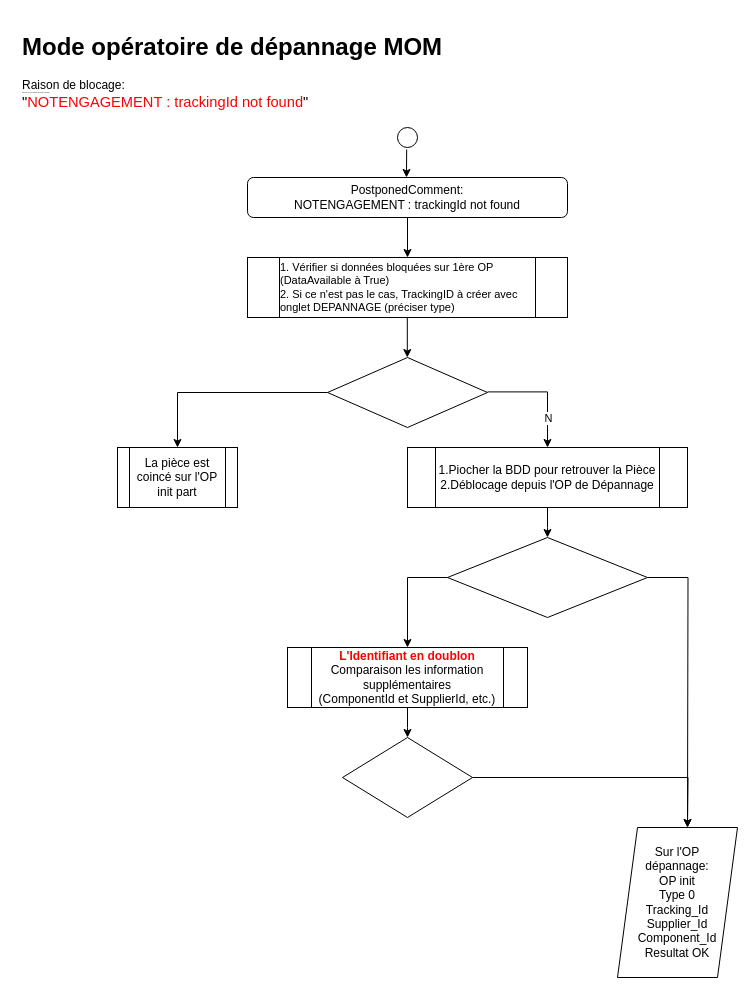
This 755x995 diagram has some shape labels left out. Here are the shapes that lost their labels. From the top down, the box of each, then its label:
(326, 356, 488, 428): blocage des données sur 1ère OP
(446, 536, 648, 618): La pièce se trouve sur la BDD (en statut declaré)
(342, 736, 472, 818): Supplier_Id Component_Id pareil?
